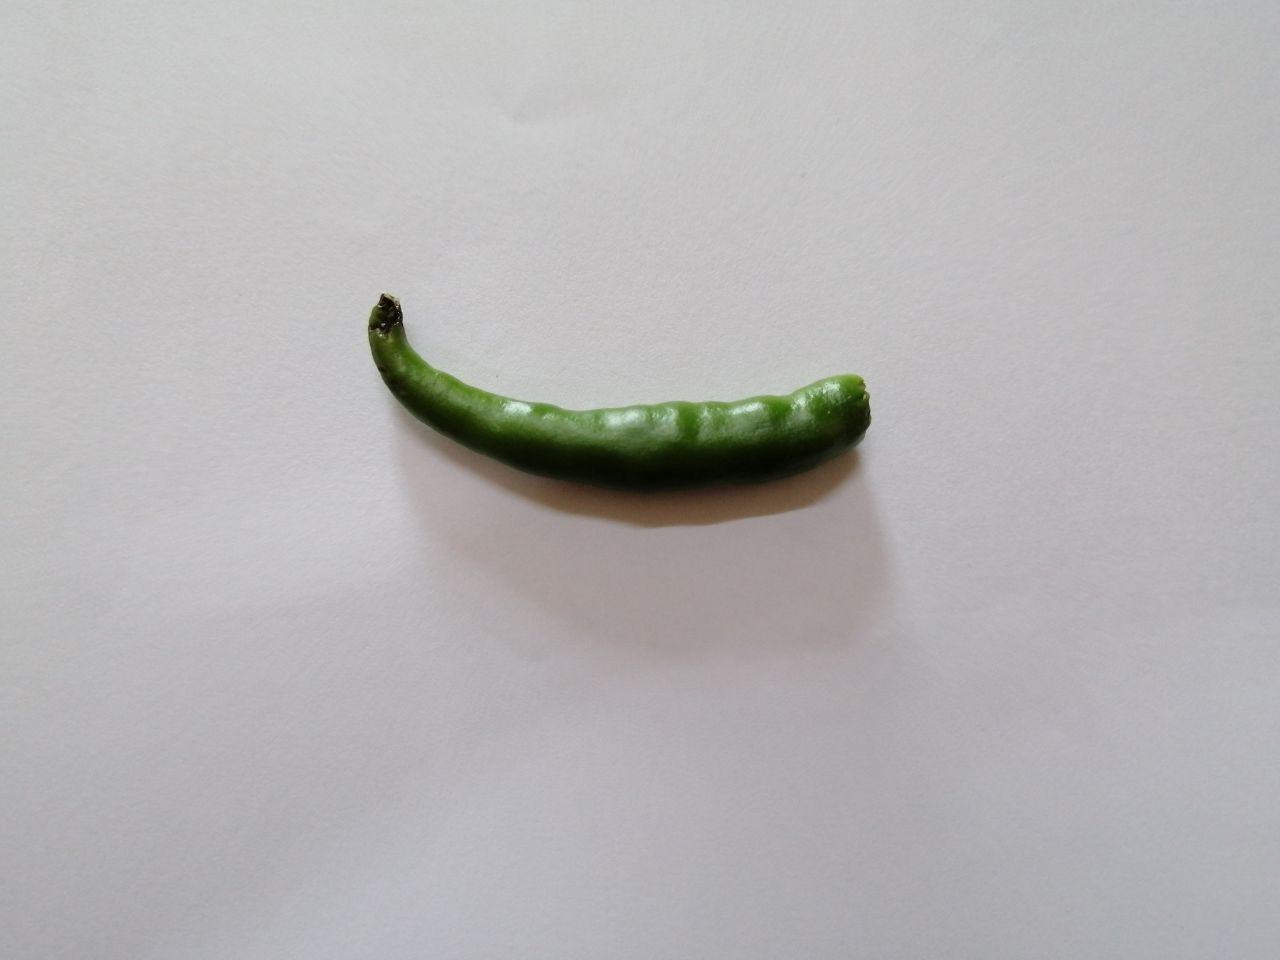lada hijau: (352, 272, 888, 517)
